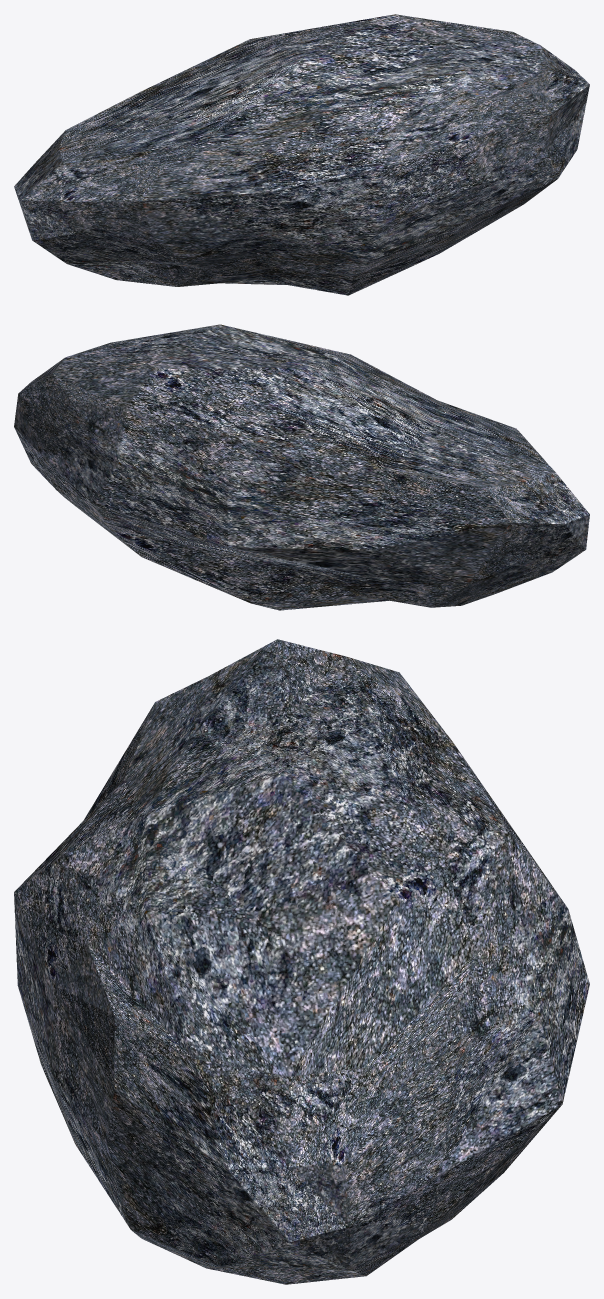
Rendered from asteroid_iron_radial_s03_l0.fbx.
The picture shows the model from 3 angles, top to bottom: view 1: azimuth 30°, elevation 25°; view 2: azimuth 150°, elevation 25°; view 3: azimuth 270°, elevation 25°; orthographic projection. The views are drawn at different scales.
Visible parts, largest first — view 1: mesh_node; view 2: mesh_node; view 3: mesh_node.
Part boxes in pixels (x1,y1,x2,y2): mesh_node: (14, 14, 589, 295); mesh_node: (14, 324, 589, 610); mesh_node: (14, 639, 589, 1284).
Bounding box in the file's own units: 3.73 × 1.43 × 1.78.
